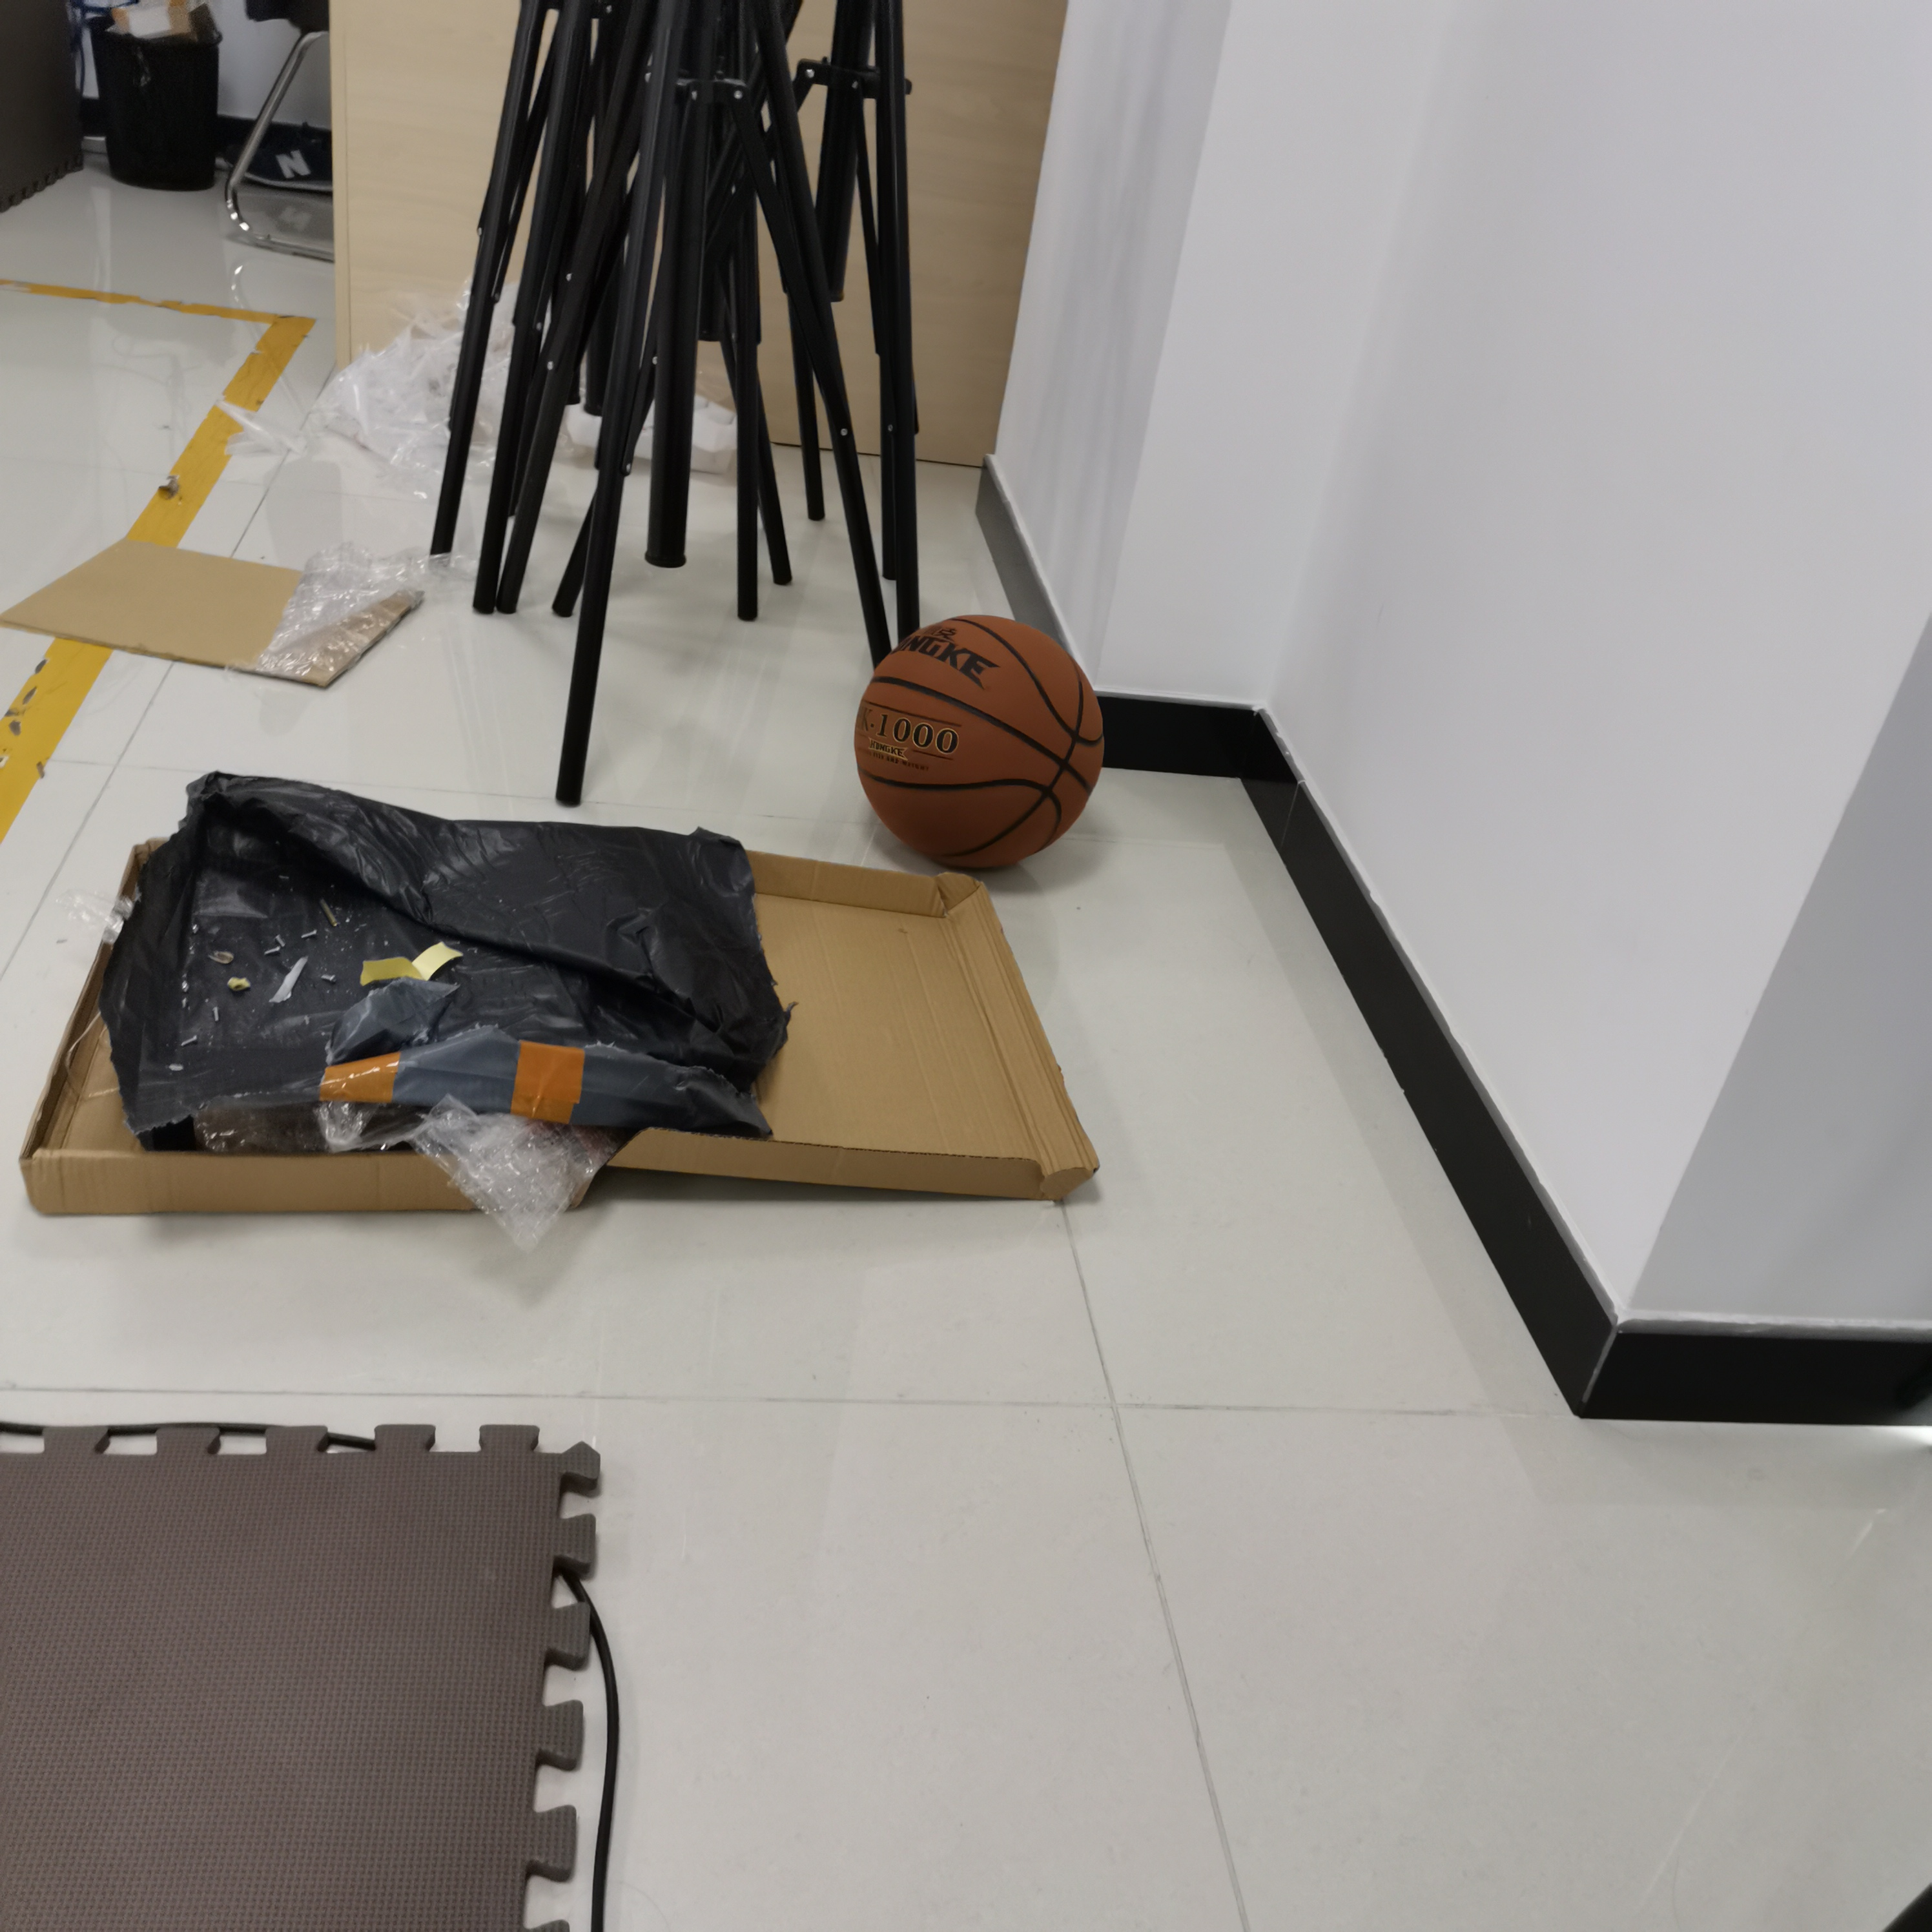basketball: (853, 616, 1108, 870)
